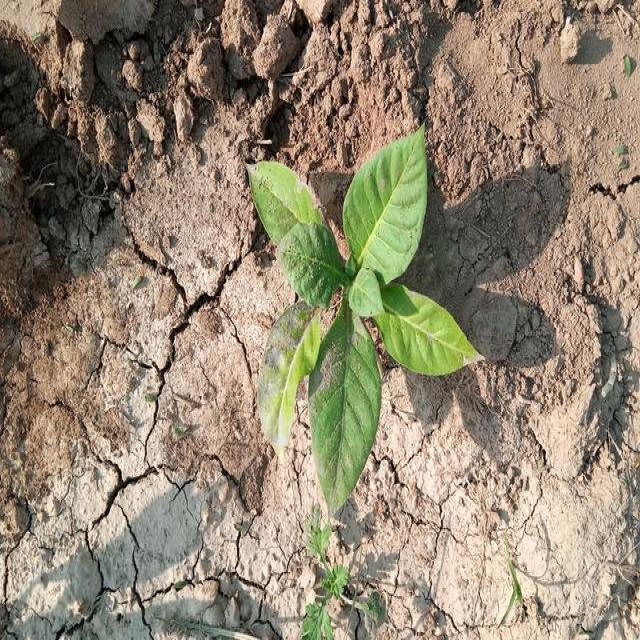crop: (248, 132, 480, 494)
